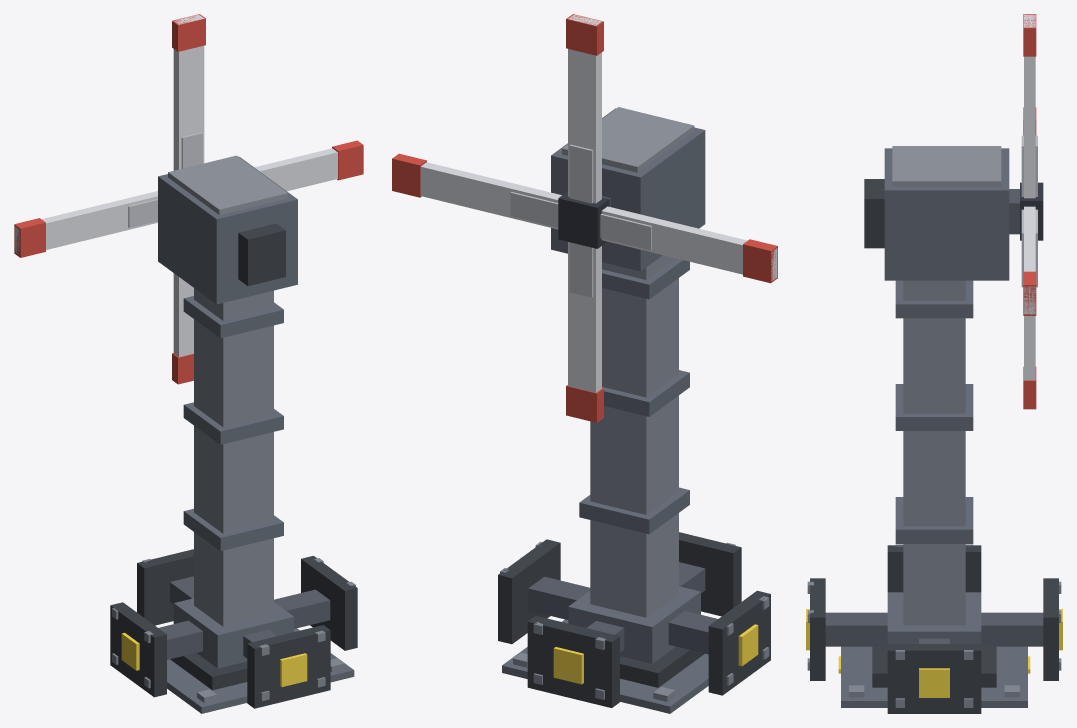
Rendered from windmill.glb.
3 views of the same model, side by side, from view 1: azimuth 30°, elevation 25°; view 2: azimuth 150°, elevation 25°; view 3: azimuth 270°, elevation 25° (orthographic). The views are drawn at different scales.
Visible parts, largest first — view 1: body.026, rotor, link_y-.001, link_x-.001, link_x+.001, link_y+.001, link_z-.001; view 2: body.026, rotor, link_y+.001, link_x-.001, link_x+.001, link_y-.001, link_z-.001; view 3: body.026, link_x+.001, rotor, link_z-.001, link_y+.001, link_y-.001, link_x-.001.
Boxes of the visible parts, bbox=[...] form: body.026: bbox=[158, 155, 297, 690]; rotor: bbox=[14, 14, 363, 384]; link_y-.001: bbox=[243, 625, 330, 708]; link_x-.001: bbox=[110, 602, 202, 697]; link_x+.001: bbox=[274, 556, 357, 650]; link_y+.001: bbox=[137, 549, 193, 625]; link_z-.001: bbox=[167, 628, 354, 713]; body.026: bbox=[551, 107, 705, 687]; rotor: bbox=[392, 14, 777, 422]; link_y+.001: bbox=[527, 616, 624, 707]; link_x-.001: bbox=[668, 590, 770, 695]; link_x+.001: bbox=[498, 539, 590, 644]; link_y-.001: bbox=[679, 532, 741, 616]; link_z-.001: bbox=[502, 619, 708, 713]; body.026: bbox=[864, 146, 1019, 687]; link_x+.001: bbox=[887, 638, 981, 713]; rotor: bbox=[1020, 14, 1043, 409]; link_z-.001: bbox=[838, 646, 1030, 707]; link_y+.001: bbox=[981, 578, 1062, 680]; link_y-.001: bbox=[806, 578, 887, 680]; link_x-.001: bbox=[887, 544, 981, 592].
Bounding box in the file's own units: 1.69 × 2.87 × 1.03.
